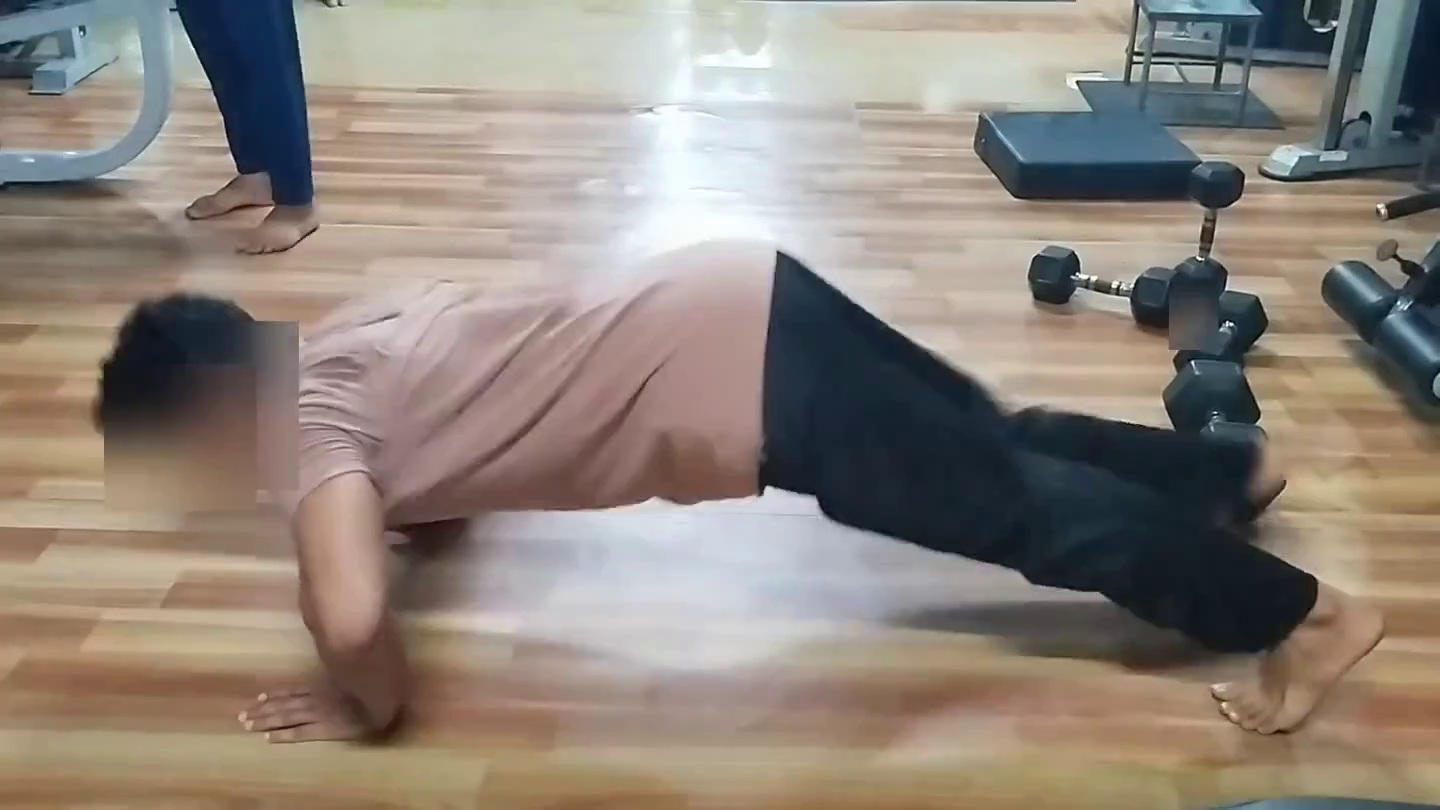push_up_correct: (60, 220, 1440, 810)
